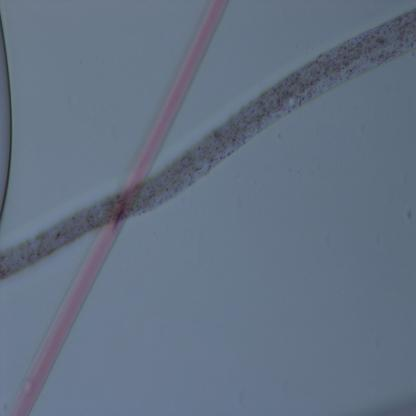Air bubble: (0, 21, 17, 222)
Microfibre: (0, 9, 416, 278), (10, 1, 231, 415)
